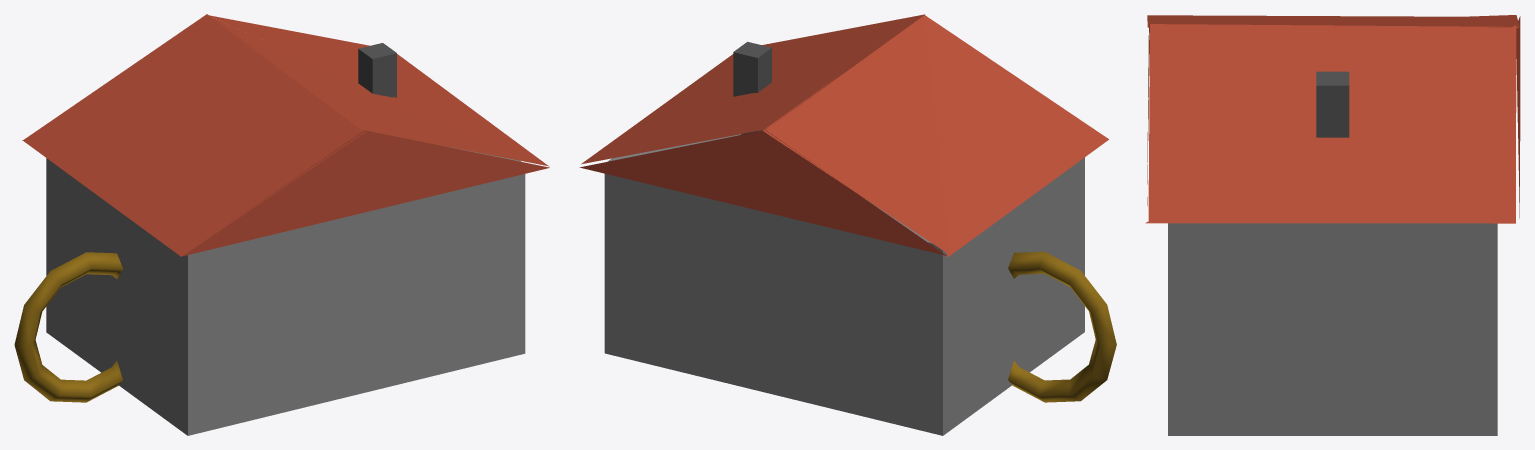
File: workshop_t2.glb
3 views of the same model, side by side, from view 1: azimuth 30°, elevation 25°; view 2: azimuth 150°, elevation 25°; view 3: azimuth 270°, elevation 25° (orthographic). The views are drawn at different scales.
Visible parts, largest first — view 1: building-workshop, waterwheel; view 2: building-workshop, waterwheel; view 3: building-workshop.
Boxes of the visible parts, box(x1,y1,x2,y2) form: building-workshop: box(22, 14, 549, 435); waterwheel: box(14, 252, 122, 402); building-workshop: box(579, 14, 1108, 435); waterwheel: box(1008, 251, 1116, 402); building-workshop: box(1145, 15, 1520, 435).
Size of the model in its own units: 0.216 by 0.1274 by 0.1325.
